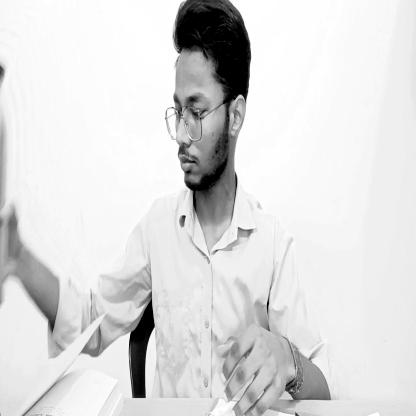Distracted: (167, 1, 255, 199)
